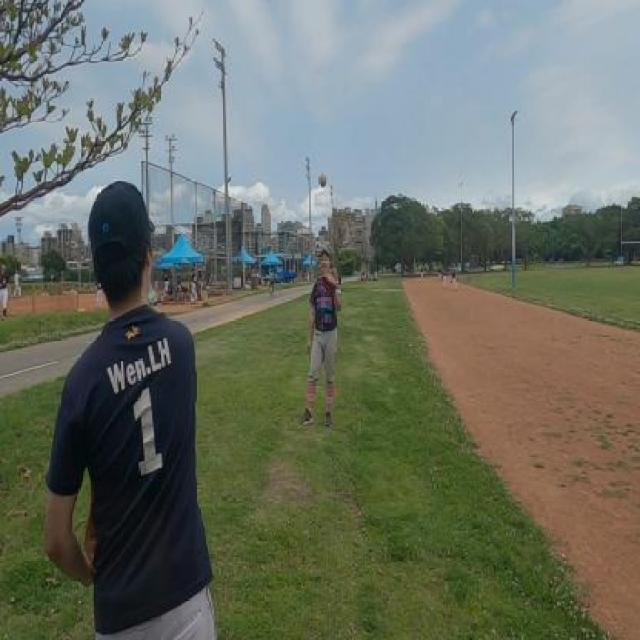baseball: (319, 171, 326, 187)
